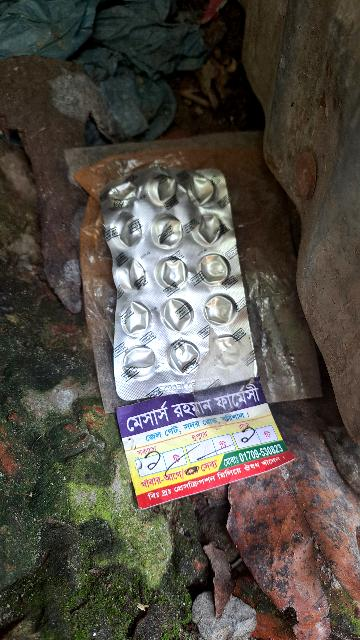medicine: (82, 155, 272, 406)
